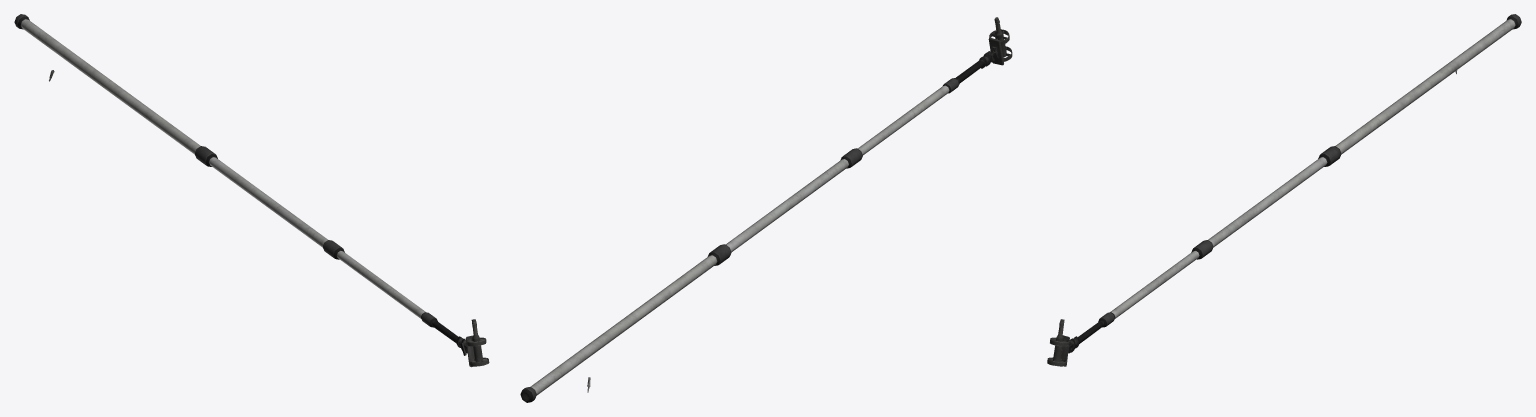
File: 054_shotgunmicrophone.fbx
The picture shows the model from 3 angles, left to right: view 1: azimuth 30°, elevation 25°; view 2: azimuth 150°, elevation 25°; view 3: azimuth 330°, elevation 25°; orthographic projection. The views are drawn at different scales.
Visible parts, largest first — view 1: LOD_1_Group_0_Sub_1__sm31_054_ShotgunMicrophone01A_A_Mat; view 2: LOD_1_Group_0_Sub_1__sm31_054_ShotgunMicrophone01A_A_Mat; view 3: LOD_1_Group_0_Sub_1__sm31_054_ShotgunMicrophone01A_A_Mat.
Boxes of the visible parts, <box> form: LOD_1_Group_0_Sub_1__sm31_054_ShotgunMicrophone01A_A_Mat: <box>14,14,489,367</box>; LOD_1_Group_0_Sub_1__sm31_054_ShotgunMicrophone01A_A_Mat: <box>520,17,1012,402</box>; LOD_1_Group_0_Sub_1__sm31_054_ShotgunMicrophone01A_A_Mat: <box>1047,14,1521,366</box>.
Size of the model in its own units: 0.0639 by 0.1856 by 1.95.
